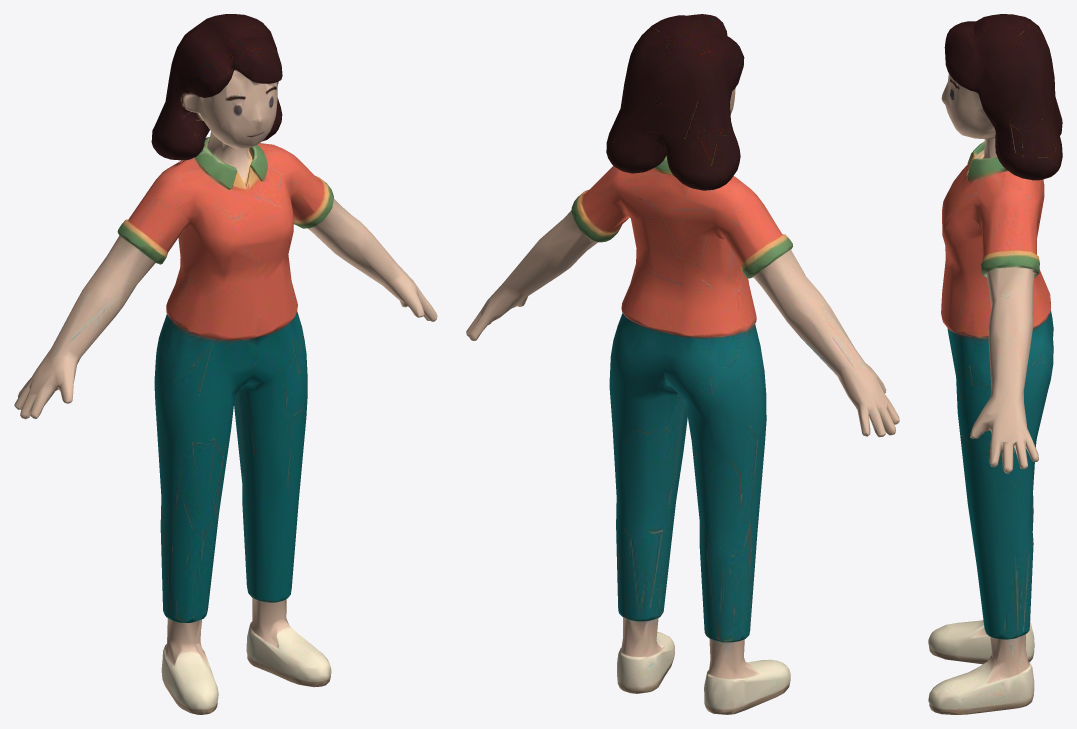
The model's file is adult-woman-512.glb.
3 renders of one model, left to right at view 1: azimuth 30°, elevation 25°; view 2: azimuth 150°, elevation 25°; view 3: azimuth 270°, elevation 25°, orthographic. The views are drawn at different scales.
Bounding box in the file's own units: 1.25 × 1.9 × 0.3491.
1 material, 1 textured.
